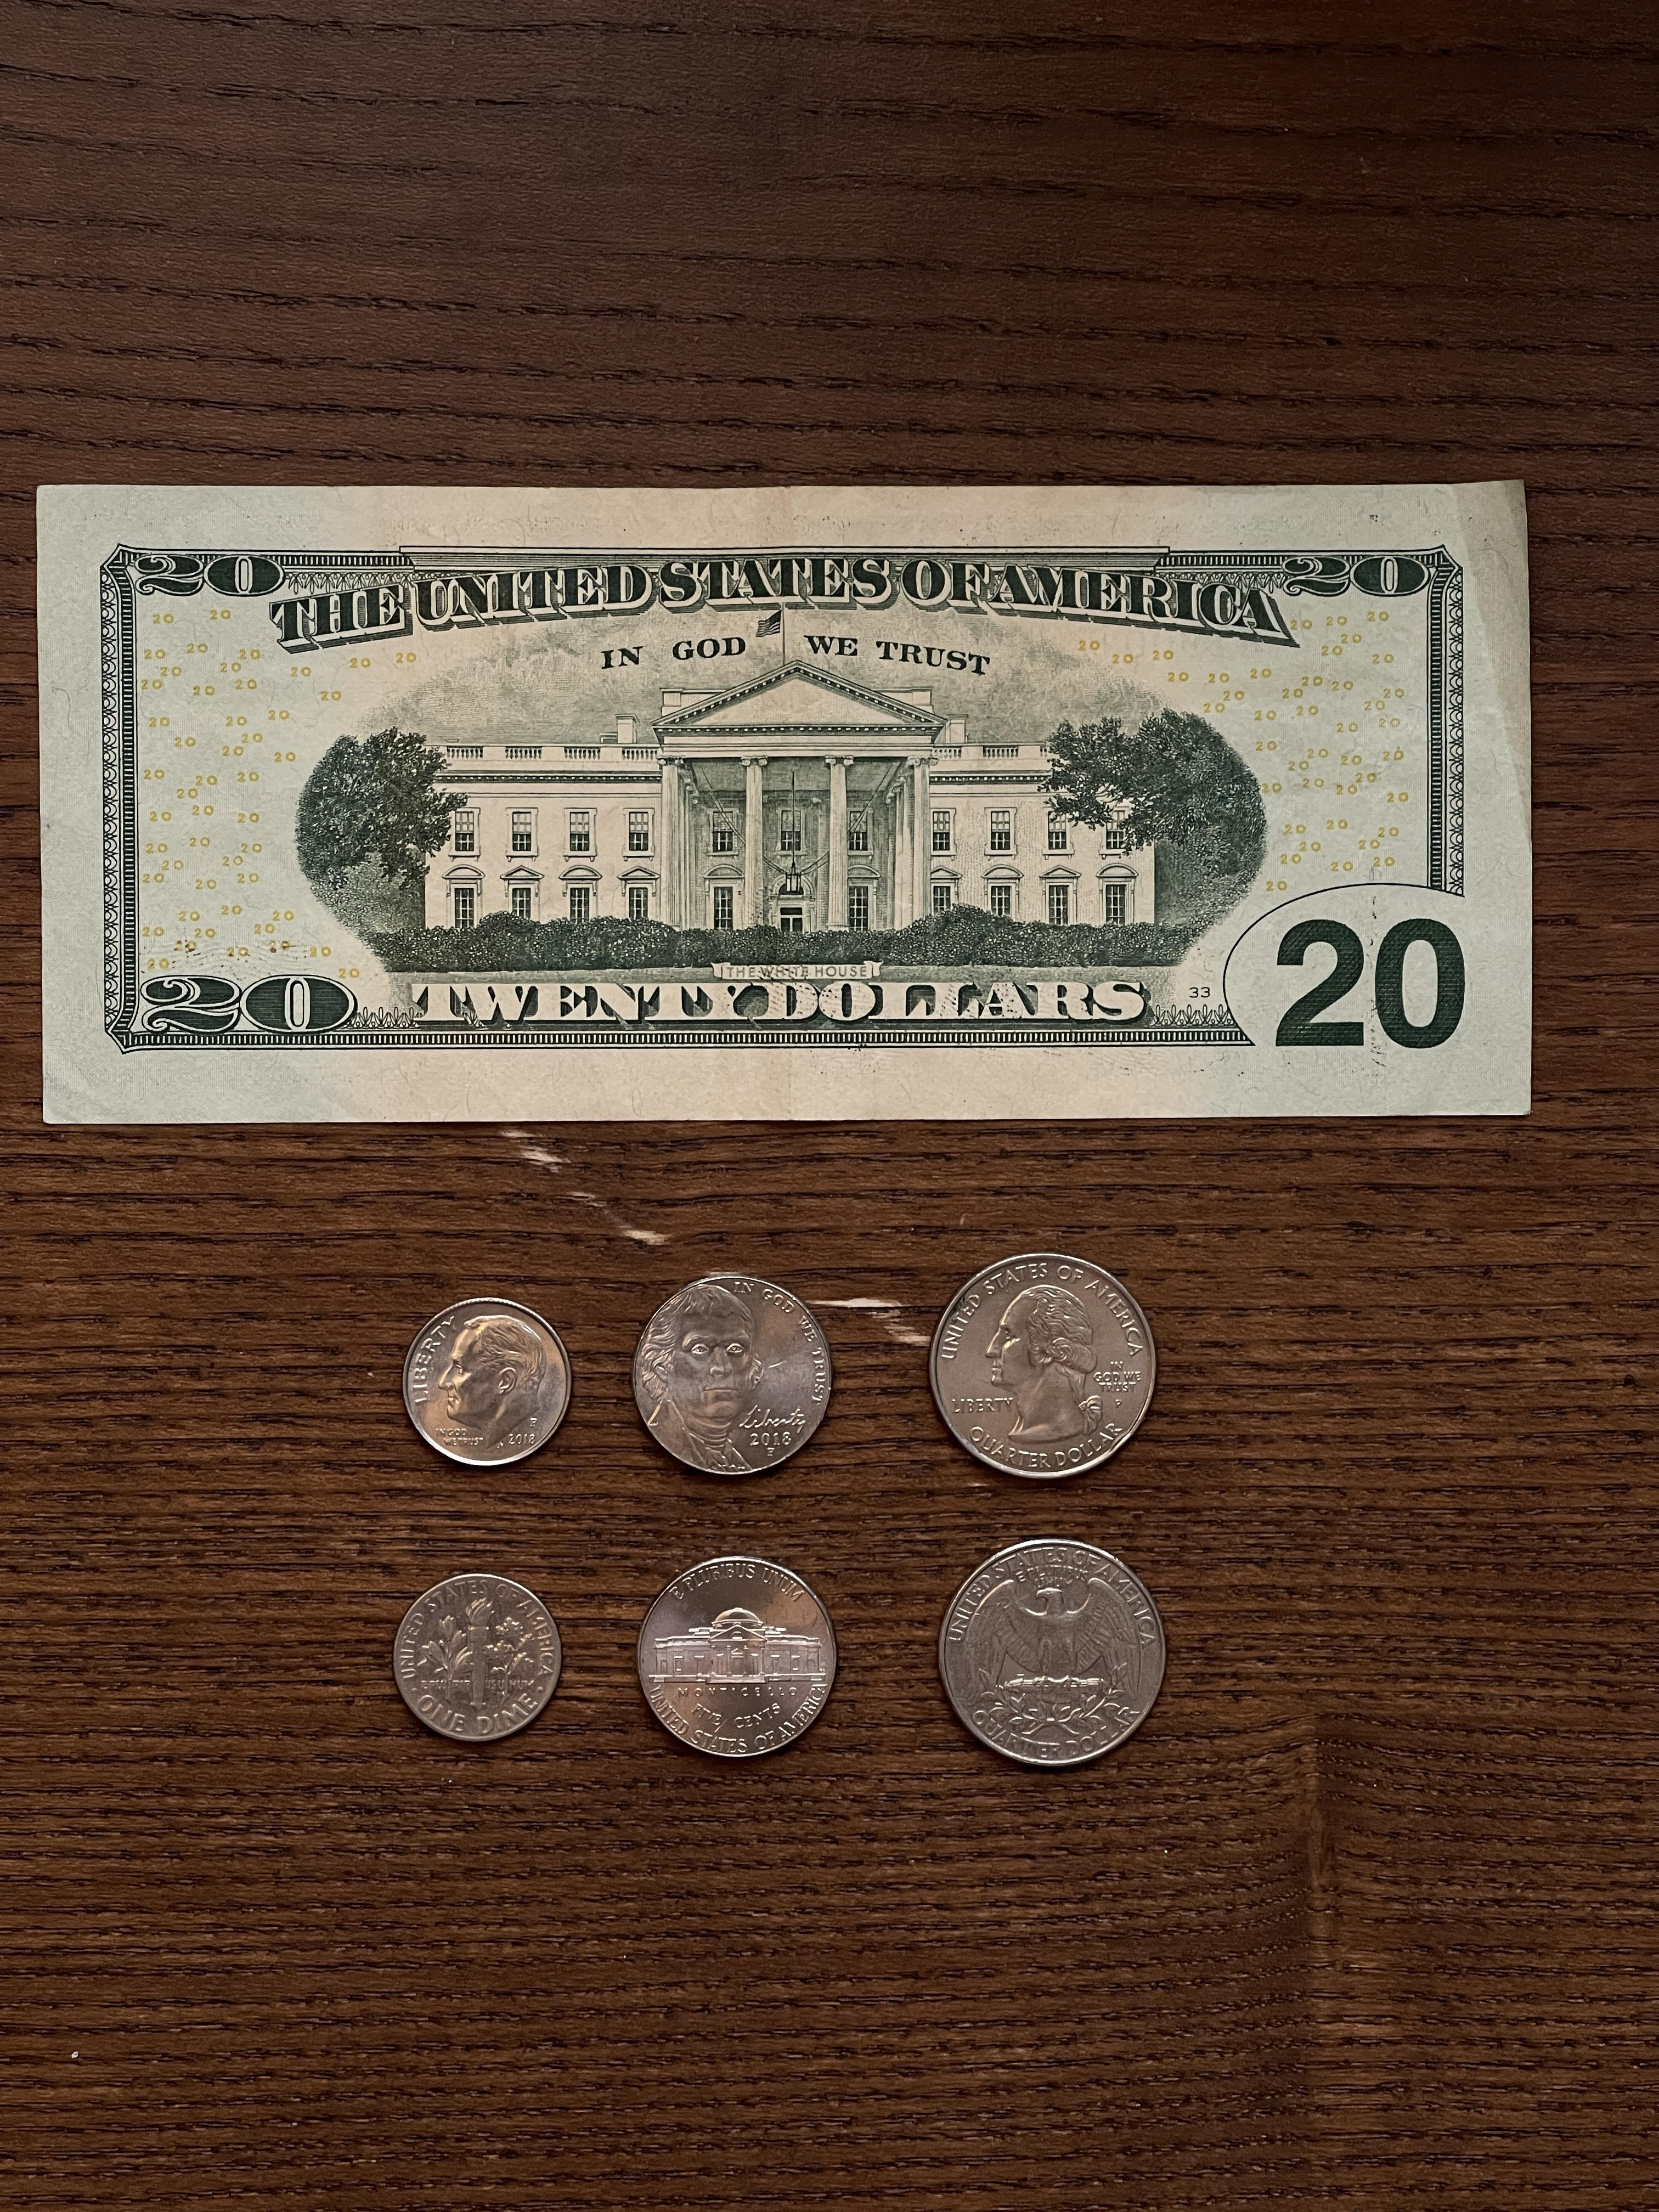Dime: (399, 1294, 577, 1470), (390, 1569, 566, 1747)
Nickel: (627, 1273, 838, 1479), (634, 1554, 840, 1761)
Quarter: (925, 1247, 1162, 1480), (938, 1536, 1168, 1768)
TwentyBill: (26, 475, 1547, 1127)
